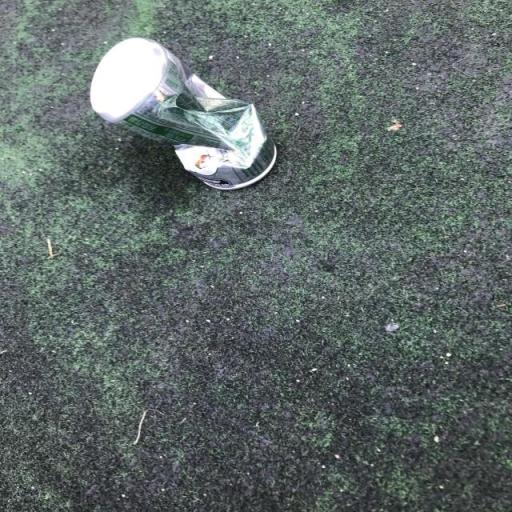metal: (72, 28, 334, 267)
